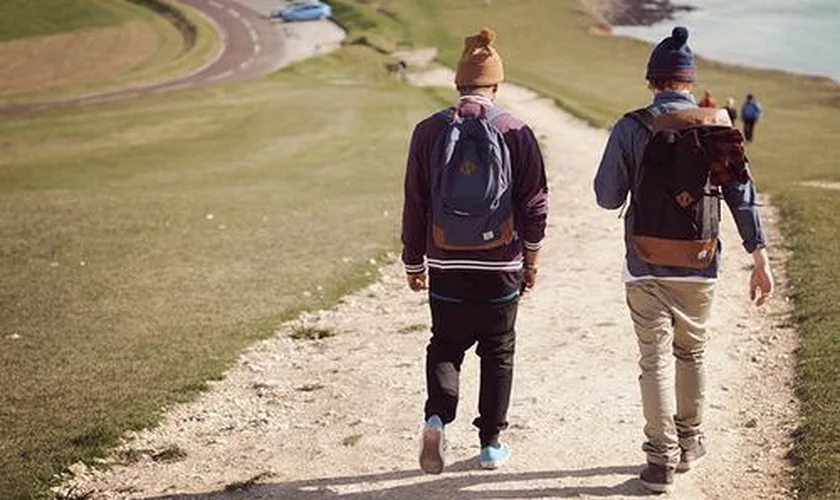Humano: (388, 26, 555, 479), (585, 19, 734, 477), (739, 91, 765, 146), (701, 86, 718, 108)
